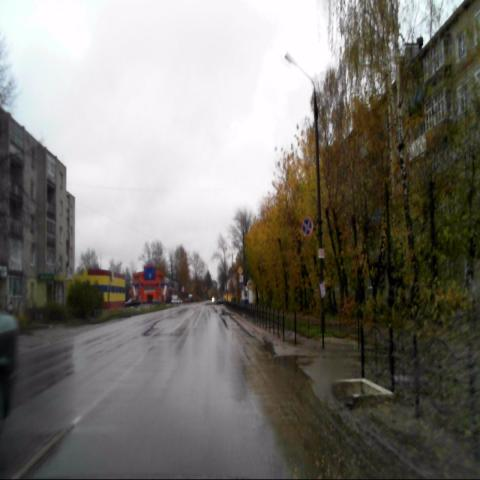3_27: (301, 215, 314, 236)
